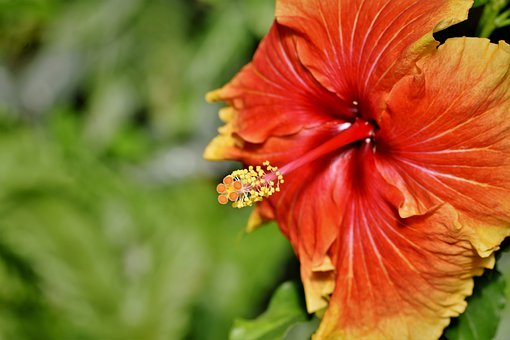Hibiscus: (207, 9, 510, 340)
